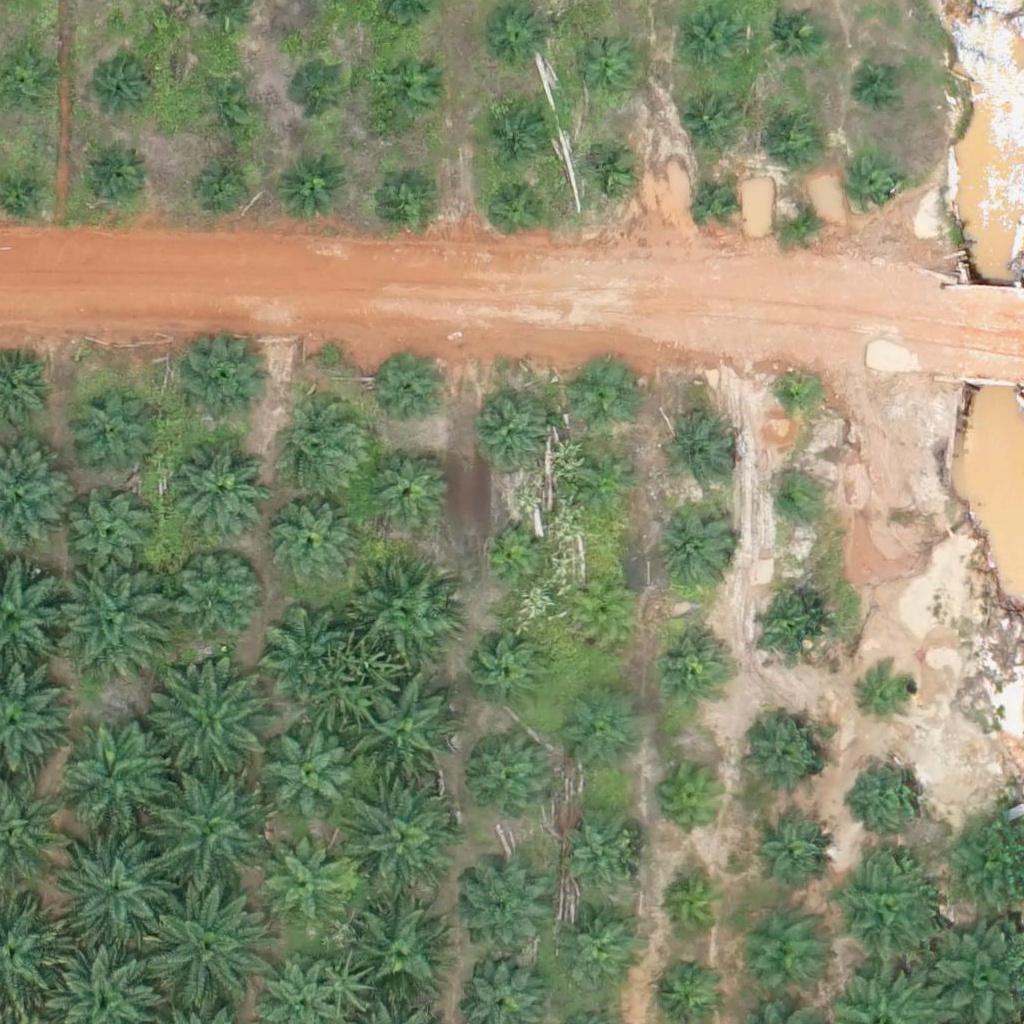Kelapa_Sawit: (153, 771, 278, 897), (145, 883, 270, 1009), (53, 824, 178, 950), (54, 551, 179, 677), (149, 666, 274, 791), (348, 787, 461, 900), (830, 855, 942, 968), (357, 686, 457, 787), (348, 898, 448, 999), (729, 911, 829, 1011), (351, 563, 451, 663), (66, 725, 166, 825), (273, 399, 373, 499), (168, 432, 268, 532), (743, 716, 831, 804), (555, 909, 643, 997), (461, 866, 549, 954), (268, 733, 356, 821), (174, 549, 262, 637), (182, 333, 270, 421), (63, 489, 151, 577), (467, 735, 554, 824), (271, 499, 358, 588), (747, 813, 834, 901), (554, 817, 641, 905), (260, 839, 347, 927), (259, 606, 346, 694), (470, 388, 557, 476), (365, 445, 452, 533), (62, 389, 149, 477), (660, 410, 735, 486), (370, 355, 445, 431), (751, 591, 826, 667), (655, 867, 730, 943), (853, 754, 928, 830), (660, 507, 735, 583), (468, 634, 543, 709), (565, 698, 640, 773), (652, 625, 727, 700), (658, 758, 733, 833), (278, 157, 341, 220), (677, 10, 740, 73), (87, 140, 150, 203), (374, 55, 437, 118), (372, 162, 435, 225), (288, 62, 351, 125), (484, 179, 547, 242), (573, 360, 636, 423), (764, 106, 827, 169), (678, 91, 741, 154), (569, 582, 632, 645), (488, 101, 550, 164), (200, 75, 262, 138), (485, 5, 547, 68), (579, 456, 641, 519), (574, 43, 636, 106), (579, 141, 641, 204), (764, 1, 826, 64), (858, 663, 920, 726), (195, 157, 257, 219), (478, 522, 540, 584), (91, 62, 153, 124), (691, 176, 741, 227), (777, 197, 827, 248), (848, 163, 898, 213), (858, 58, 908, 108), (770, 371, 820, 421), (766, 478, 816, 528)
